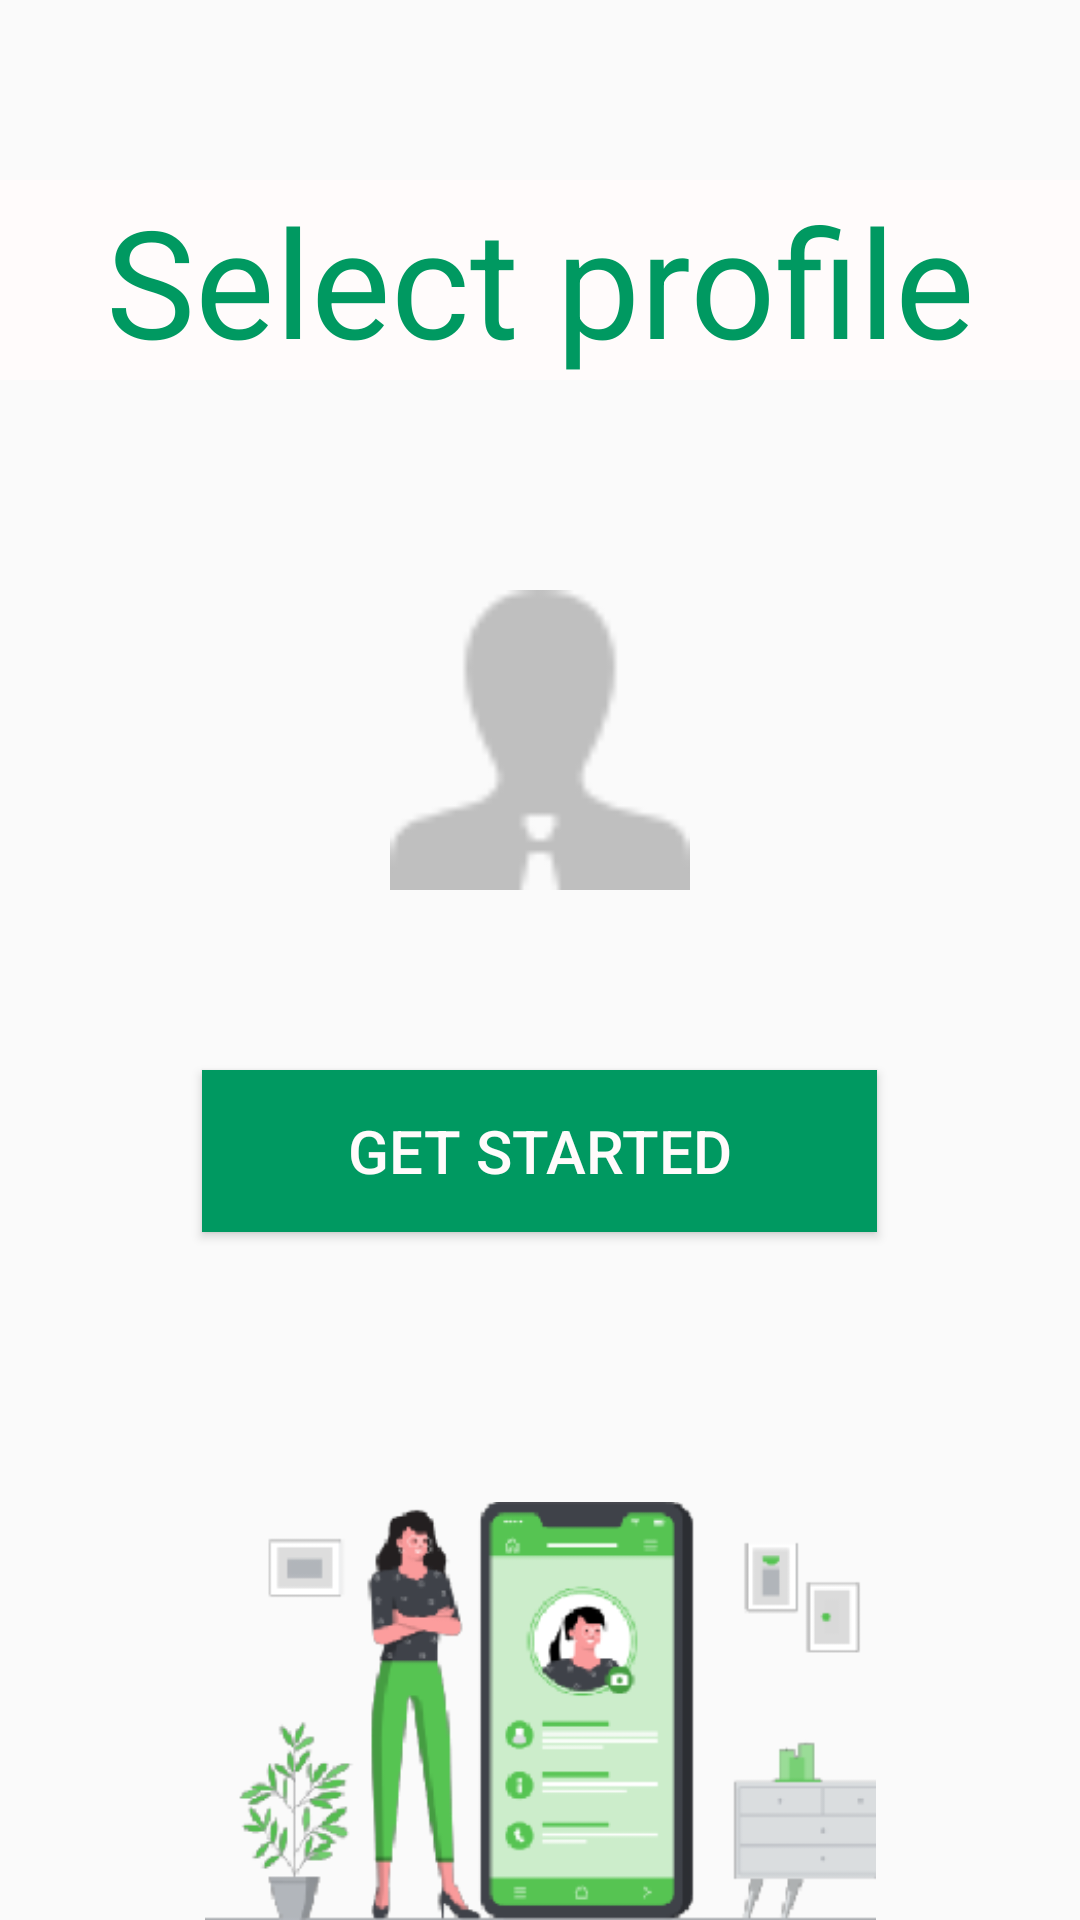

Point at icon controls on the screen. Image size 1080px x 1920px, points as [x,y].
pic userimage: [540,740]
